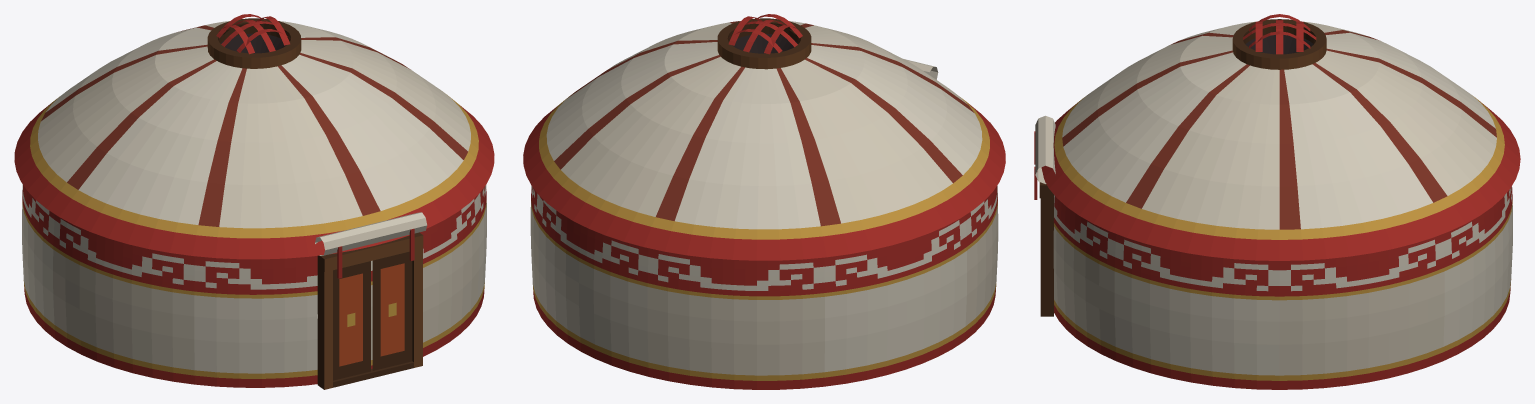
The model's file is yurt.glb.
3 views of the same model, side by side, from view 1: azimuth 30°, elevation 25°; view 2: azimuth 150°, elevation 25°; view 3: azimuth 270°, elevation 25° (orthographic).
Parts seen in each view (by area): view 1: yurt-blender; view 2: yurt-blender; view 3: yurt-blender.
Boxes of the visible parts, left/top/right/bottom form: yurt-blender: left=14, top=14, right=494, bottom=389; yurt-blender: left=523, top=14, right=1005, bottom=389; yurt-blender: left=1034, top=14, right=1520, bottom=389.
Size of the model in its own units: 4.72 by 2.9 by 4.76.
